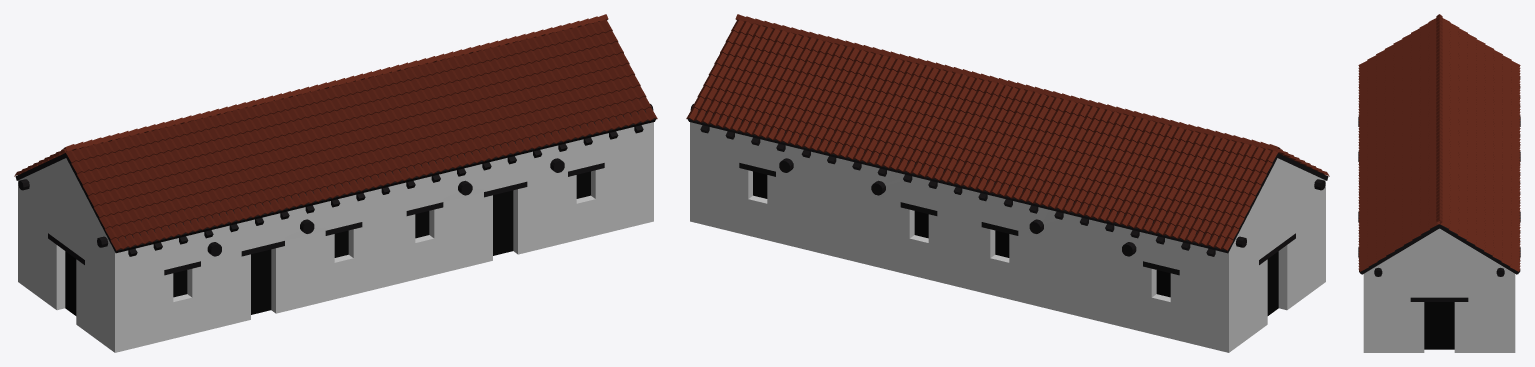
Rendered from monjerio.obj.
3 renders of one model, left to right at view 1: azimuth 30°, elevation 25°; view 2: azimuth 150°, elevation 25°; view 3: azimuth 270°, elevation 25°, orthographic. The views are drawn at different scales.
Visible parts, largest first — view 1: 1buildling_Cube.002, 1roof.001_Plane.004, Cube; view 2: 1buildling_Cube.002, 1roof.001_Plane.004, Cube; view 3: 1roof.001_Plane.004, 1buildling_Cube.002, Cube.
Boxes of the visible parts, bbox=[...] form: 1buildling_Cube.002: bbox=[18, 104, 653, 352]; 1roof.001_Plane.004: bbox=[14, 14, 657, 250]; Cube: bbox=[15, 99, 656, 256]; 1buildling_Cube.002: bbox=[690, 104, 1325, 352]; 1roof.001_Plane.004: bbox=[686, 14, 1329, 250]; Cube: bbox=[687, 99, 1328, 256]; 1roof.001_Plane.004: bbox=[1358, 14, 1520, 271]; 1buildling_Cube.002: bbox=[1358, 116, 1520, 352]; Cube: bbox=[1359, 77, 1520, 274].
Size of the model in its own units: 65.58 by 19.51 by 21.45.
